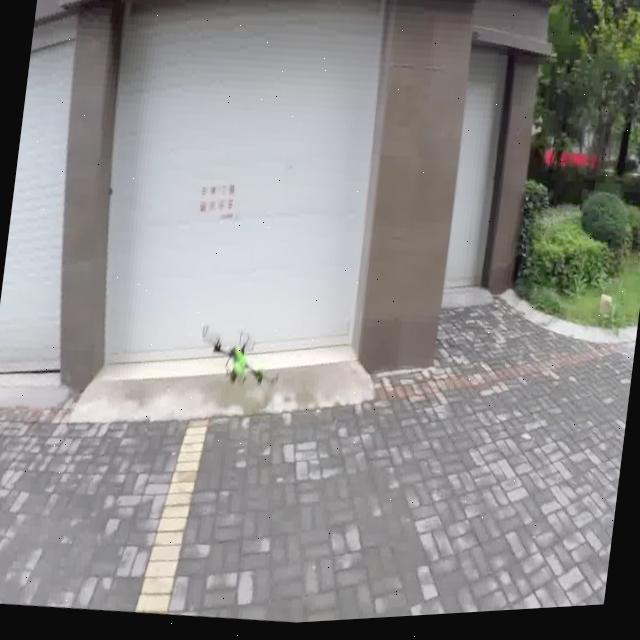drone: (188, 316, 294, 426)
